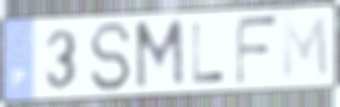3: (43, 26, 81, 92)
F: (233, 14, 281, 88)
L: (190, 21, 226, 86)
M: (133, 16, 188, 94), (280, 13, 332, 84)
S: (88, 20, 134, 94)
